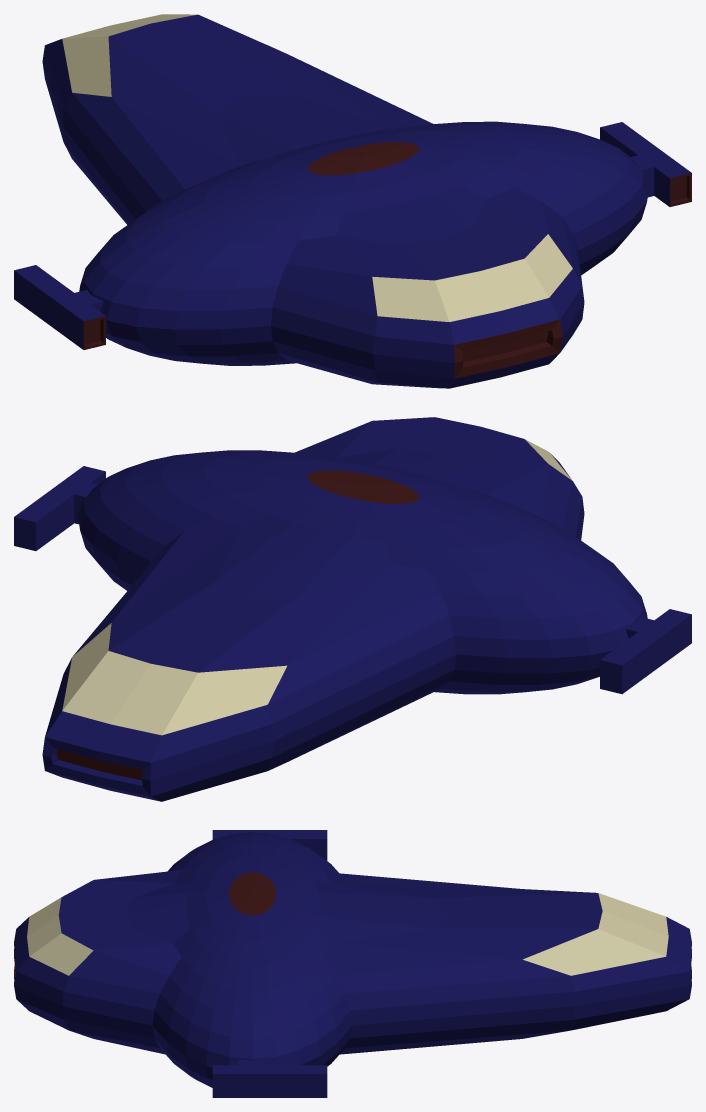
Rendered from ship2.glb.
3 views of the same model, one above another, from view 1: azimuth 30°, elevation 25°; view 2: azimuth 150°, elevation 25°; view 3: azimuth 270°, elevation 25° (orthographic). The views are drawn at different scales.
Parts seen in each view (by area): view 1: ship; view 2: ship; view 3: ship.
Part boxes in pixels (bbox=[...]): ship: bbox=[14, 14, 691, 388]; ship: bbox=[14, 417, 691, 801]; ship: bbox=[14, 830, 691, 1097].
Size of the model in its own units: 11 by 2.97 by 12.91.
